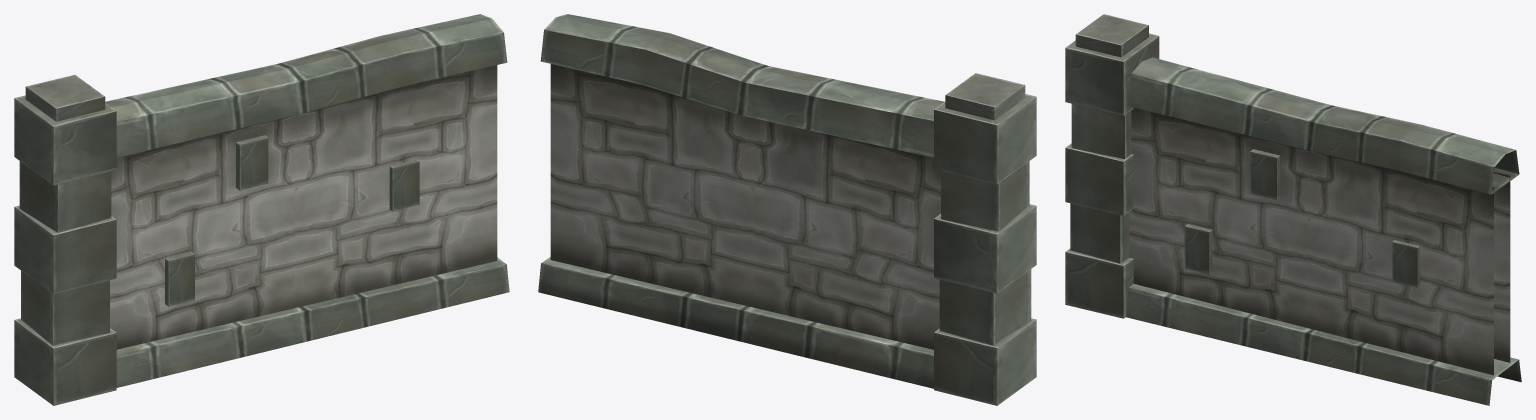
Rendered from wall_01a_tile.fbx.
3 renders of one model, left to right at view 1: azimuth 30°, elevation 25°; view 2: azimuth 150°, elevation 25°; view 3: azimuth 330°, elevation 25°, orthographic. The views are drawn at different scales.
Parts seen in each view (by area): view 1: wall_01a_tile:Mesh; view 2: wall_01a_tile:Mesh; view 3: wall_01a_tile:Mesh.
Boxes of the visible parts, x1,y1,x2,y2 form: wall_01a_tile:Mesh: [14, 14, 509, 405]; wall_01a_tile:Mesh: [538, 14, 1036, 405]; wall_01a_tile:Mesh: [1065, 14, 1521, 405].
Bounding box in the file's own units: 4.61 × 2.81 × 0.6835.
